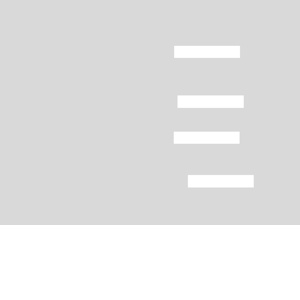square: (171, 90, 252, 113), (183, 170, 261, 193), (169, 41, 248, 63), (171, 126, 245, 149)
